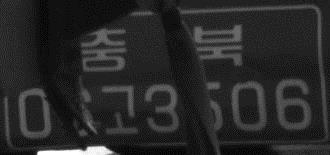0: (16, 84, 52, 141), (229, 79, 266, 132)
3: (142, 82, 181, 136)
5: (191, 80, 224, 135)
6: (274, 75, 313, 132), (57, 84, 94, 140)
고: (99, 83, 139, 139)
충북_D: (76, 21, 244, 73)
